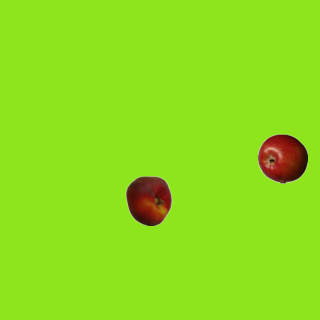Apple Braeburn: (257, 133, 307, 183)
Nectarine Flat: (123, 175, 173, 225)
